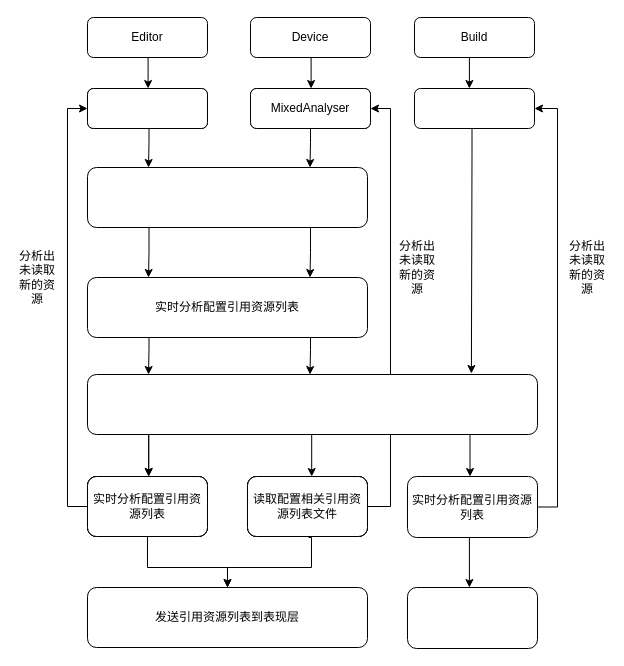
The diagram is 624 pixels wide and 666 high, and some of its shapes have lost their labels. The box of each missing label's shape, as (x1, y1, x2, y2) in pixels:
AllRuntimeAnalyser: (86, 88, 208, 128)
OfflineAnalyser: (414, 88, 534, 128)
只读取依赖客户端数据相关配置数据: (86, 374, 538, 434)
读取依赖服务器数据相关配置数据: (86, 166, 368, 228)
输出配置相关引用资源列表文件: (406, 586, 538, 648)
